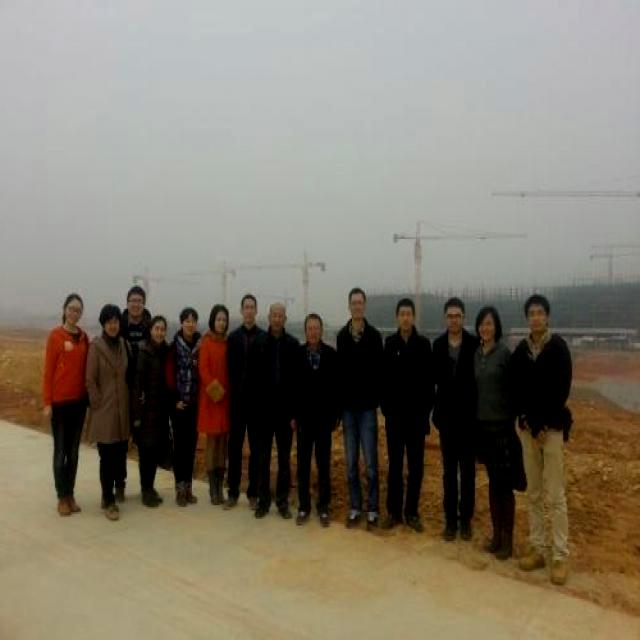face_nomask: (64, 303, 84, 325), (528, 308, 546, 332), (397, 307, 415, 329), (240, 302, 258, 322), (447, 311, 463, 332), (269, 311, 285, 332), (126, 296, 144, 314), (102, 317, 121, 334), (306, 322, 322, 342), (349, 298, 364, 319), (478, 320, 495, 338), (152, 323, 167, 342), (180, 317, 197, 333), (214, 314, 228, 330)
hand_noglove: (40, 402, 54, 419)
head_nohelmet: (522, 293, 550, 310), (100, 305, 122, 322), (476, 305, 499, 321), (444, 296, 465, 313), (126, 284, 148, 300), (304, 310, 322, 326), (268, 301, 286, 317), (212, 302, 230, 318), (240, 291, 259, 306), (62, 292, 84, 304), (348, 286, 368, 299), (181, 306, 198, 320), (398, 298, 415, 310), (152, 314, 168, 326)
person: (511, 292, 575, 592), (468, 299, 526, 568), (33, 290, 94, 524), (426, 296, 480, 550), (378, 298, 434, 540), (333, 286, 385, 538), (248, 298, 298, 526), (290, 306, 340, 533), (86, 304, 136, 526), (223, 290, 270, 516), (195, 297, 238, 512), (133, 312, 178, 516), (167, 304, 204, 512)
shoes: (497, 492, 518, 560), (482, 491, 502, 556), (514, 547, 548, 573), (203, 468, 224, 508), (549, 554, 571, 588), (338, 504, 362, 532), (140, 484, 166, 509), (380, 508, 404, 532), (102, 495, 124, 521), (361, 508, 383, 533), (172, 481, 194, 506), (439, 518, 460, 544), (251, 495, 273, 519), (406, 509, 426, 535), (54, 493, 74, 518), (223, 484, 243, 509), (292, 502, 312, 526), (313, 506, 334, 528), (183, 478, 198, 506), (272, 498, 292, 518), (459, 517, 474, 542)
